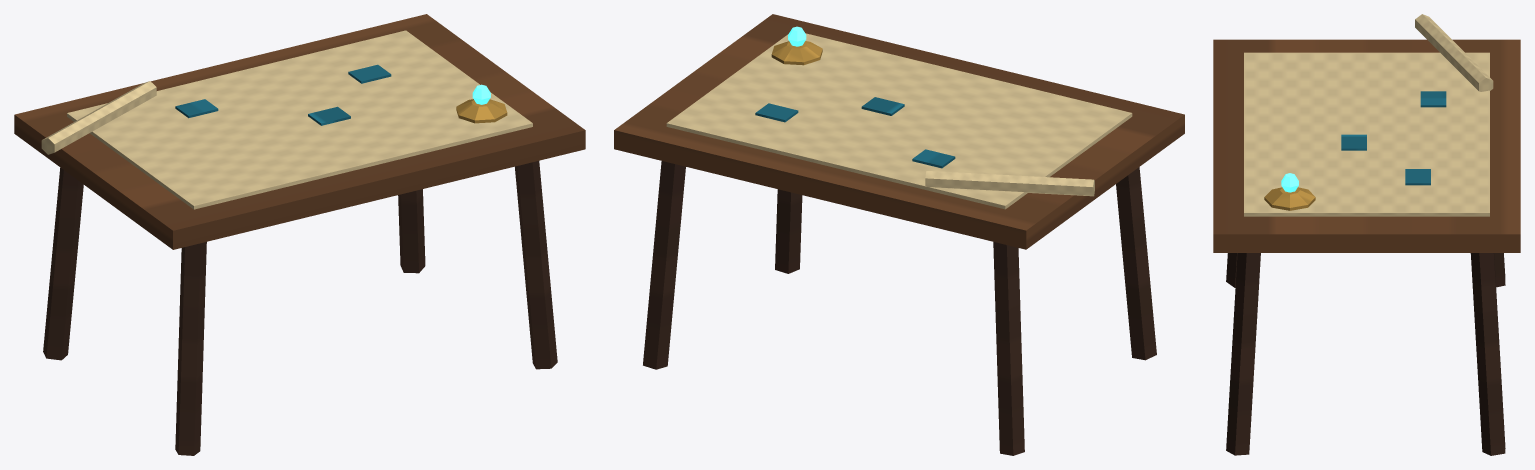
Rendered from SM_Prop_SkyChartTable_HQ.glb.
The picture shows the model from 3 angles, left to right: view 1: azimuth 30°, elevation 25°; view 2: azimuth 150°, elevation 25°; view 3: azimuth 270°, elevation 25°; orthographic projection. The views are drawn at different scales.
Parts seen in each view (by area): view 1: SM_Prop_SkyChartTable_HQ; view 2: SM_Prop_SkyChartTable_HQ; view 3: SM_Prop_SkyChartTable_HQ.
Boxes of the visible parts, x1,y1,x2,y2 form: SM_Prop_SkyChartTable_HQ: [14, 14, 585, 455]; SM_Prop_SkyChartTable_HQ: [614, 14, 1184, 455]; SM_Prop_SkyChartTable_HQ: [1213, 14, 1520, 455].
Bounding box in the file's own units: 1.89 × 1.12 × 1.2.
Materials: 1 (1 with a texture image).
